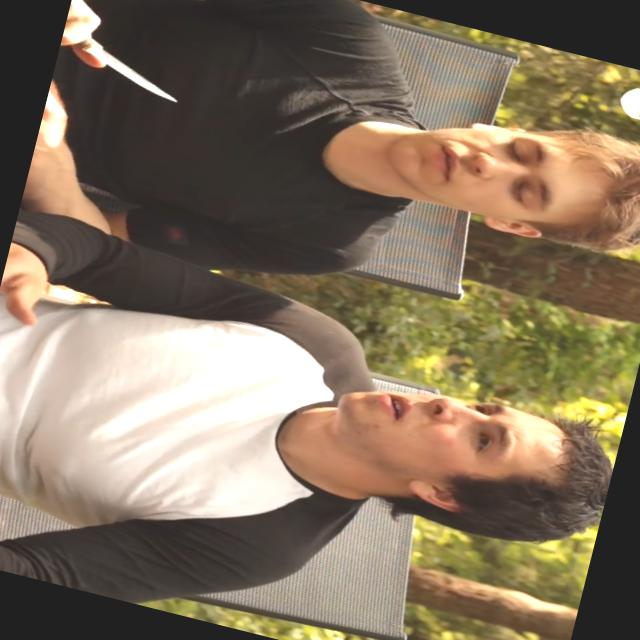knife: (50, 8, 214, 118)
